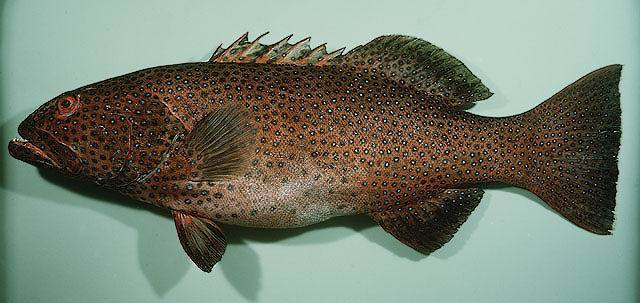fish: (7, 32, 621, 273)
